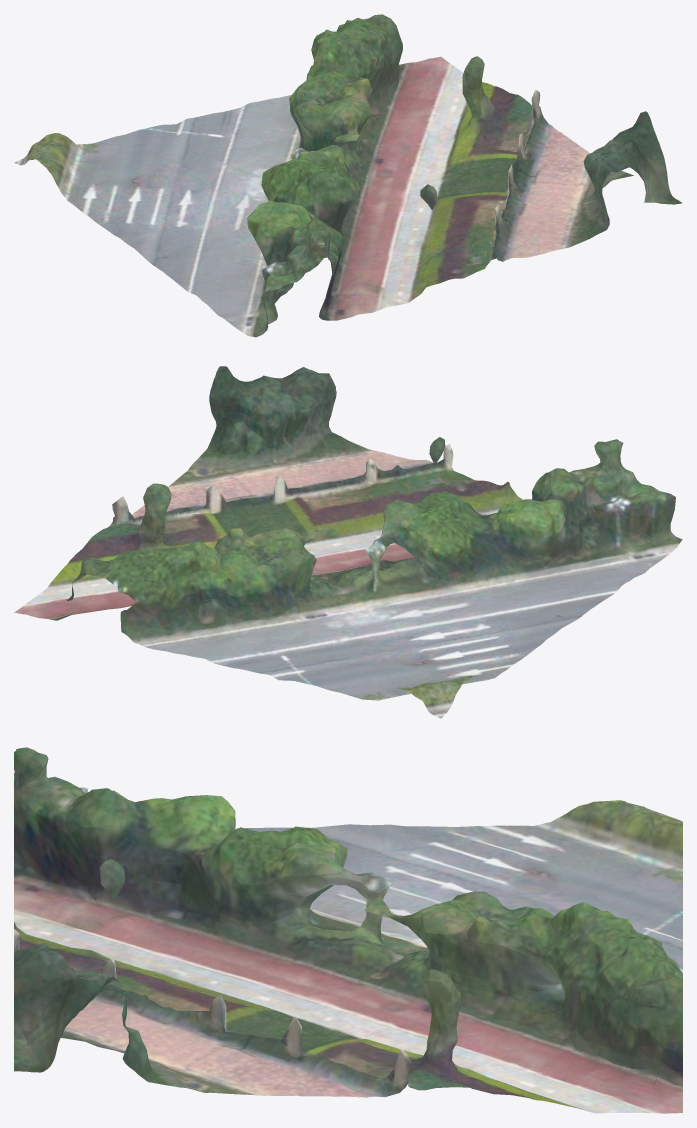
File: Tile__001__005_L21_0000300.glb
The picture shows the model from 3 angles, top to bottom: view 1: azimuth 30°, elevation 25°; view 2: azimuth 150°, elevation 25°; view 3: azimuth 270°, elevation 25°; orthographic projection. The views are drawn at different scales.
Parts seen in each view (by area): view 1: root; view 2: root; view 3: root.
Boxes of the visible parts, box(x1,y1,x2,y2) form: root: box(14, 14, 682, 337); root: box(14, 366, 682, 718); root: box(14, 747, 682, 1113).
Size of the model in its own units: 25.63 by 5.83 by 25.13.
1 material, 1 textured.
